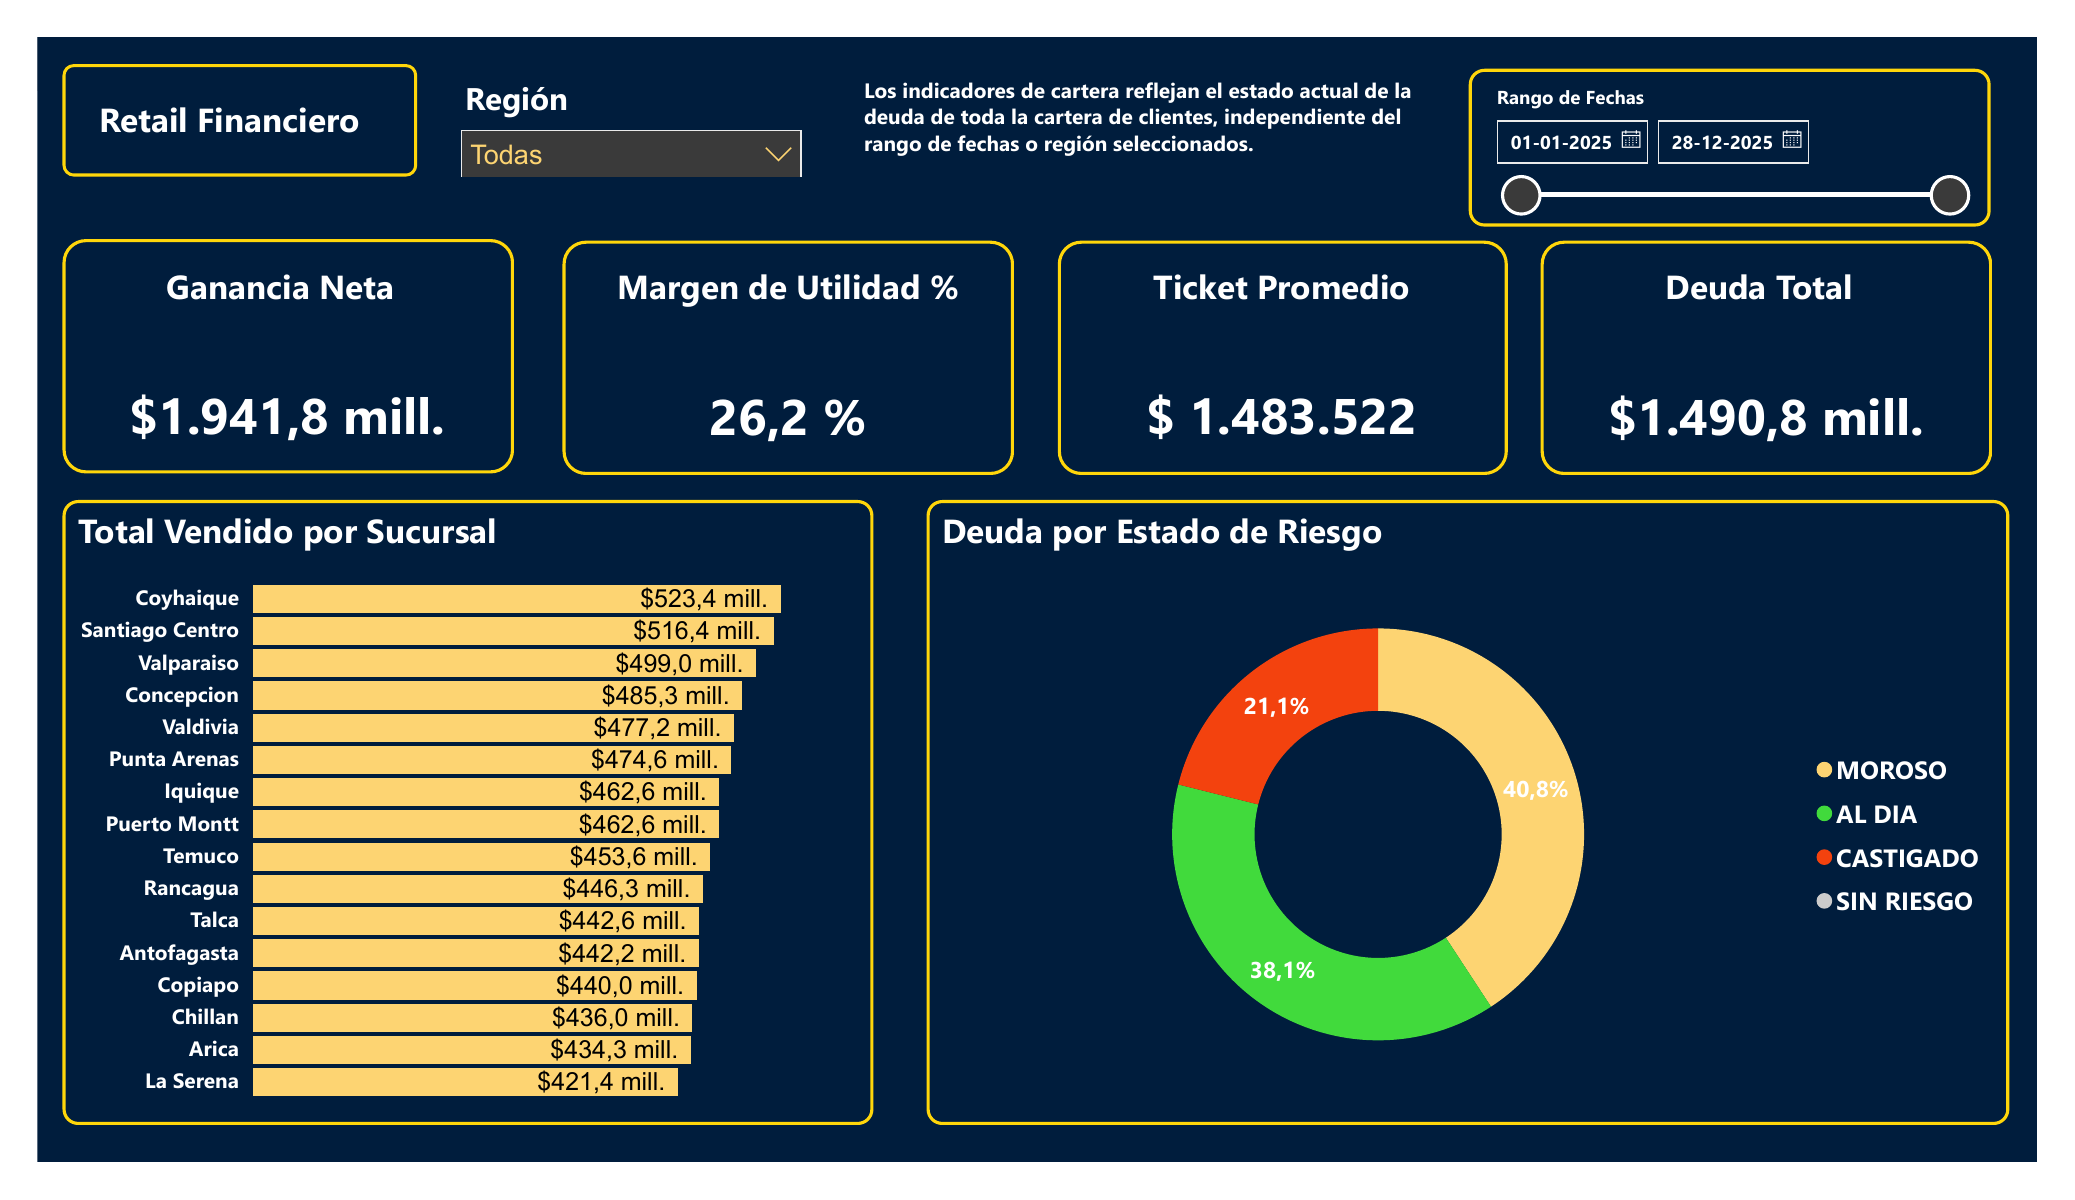

What the dashboard file says about the page in this screenshot:
{"tool":"powerbi","page":{"name":"Visión General","canvas":[1280,720],"ordinal":0},"visuals":[{"type":"shape","box":[961.6,129.6,289,149.8],"z":0,"group":"g4"},{"type":"clusteredBarChart","title":"Total Vendido por Sucursal","fields":{"Category":["retail_financiero locales.nombre_local"],"Y":["Sum(retail_financiero vw_transacciones_limpias.monto_total)"]},"box":[15.8,295.9,518.9,400],"z":0},{"type":"slicer","fields":{"Values":["retail_financiero locales.region"]},"box":[261.4,20.3,237.9,68.9],"z":1000},{"type":"cardVisual","fields":{"Data":["Sum(retail_financiero vw_clientes_credito_limpios.deuda_actual)"]},"box":[938.6,199.7,335.1,80],"z":1000,"group":"g4"},{"type":"shape","box":[15.7,17.2,227,72],"z":2000},{"type":"textbox","box":[28.2,32.9,189.4,43.8],"z":3000},{"type":"donutChart","title":"Deuda por Estado de Riesgo","fields":{"Category":["retail_financiero vw_clientes_credito_limpios.estado_riesgo"],"Y":["Sum(retail_financiero vw_clientes_credito_limpios.deuda_actual)"]},"box":[569,296,693,400],"z":4000},{"type":"shape","box":[652.6,129.6,288.1,149.8],"z":4500,"group":"g3"},{"type":"group","id":"g1","title":"Grupo 1","box":[13.8,128.9,290.6,150.5],"z":5000},{"type":"cardVisual","fields":{"Data":["_Medidas.ticket promedio"]},"box":[679,198.7,235.3,80.7],"z":5000,"group":"g3"},{"type":"shape","box":[15.5,128.9,288.9,150],"z":5500,"group":"g1"},{"type":"group","id":"g2","title":"Grupo 2","box":[336.5,130,288.9,150],"z":6000},{"type":"cardVisual","fields":{"Data":["_Medidas.utilidad total"]},"box":[28.9,199.7,262.1,79.7],"z":6000,"group":"g1"},{"type":"group","id":"g3","title":"Grupo 3","box":[652.6,129.6,288.1,149.8],"z":7000},{"type":"group","id":"g4","title":"Grupo 4","box":[938.6,129.6,335.1,150.1],"z":8000},{"type":"slicer","fields":{"Values":["Calendario.Date"]},"box":[915.8,20.2,334.5,101],"z":9000},{"type":"cardVisual","fields":{"Data":["_Medidas.margen utilidad %"]},"box":[399.3,200,163.3,80],"z":9000,"group":"g2"},{"type":"shape","box":[336.5,130,288.9,150],"z":9500,"group":"g2"},{"type":"textbox","box":[524.2,20.2,367.9,101],"z":10000},{"type":"textbox","box":[667.5,140,263.3,52.2],"z":13000,"group":"g3"},{"type":"textbox","box":[365.4,140,231.1,52.2],"z":14000,"group":"g2"},{"type":"textbox","box":[978,140,253.3,52.2],"z":15000,"group":"g4"},{"type":"textbox","box":[13.8,140.1,288.9,52.2],"z":16000,"group":"g1"}]}

Visuals, with their boxes on the page's 1280x720 design canvas (x1, y1, x2, y2). These are canvas units, not pixel positions in the 2075x1200 screenshot, which may show the page scaled, cropped or inside an application window:
shape: x1=962 y1=130 x2=1251 y2=279
"Total Vendido por Sucursal" clusteredBarChart: x1=16 y1=296 x2=535 y2=696
slicer - retail_financiero locales.region: x1=261 y1=20 x2=499 y2=89
cardVisual - Sum(retail_financiero vw_clientes_credito_limpios.deuda_actual): x1=939 y1=200 x2=1274 y2=280
shape: x1=16 y1=17 x2=243 y2=89
textbox: x1=28 y1=33 x2=218 y2=77
"Deuda por Estado de Riesgo" donutChart: x1=569 y1=296 x2=1262 y2=696
shape: x1=653 y1=130 x2=941 y2=279
"Grupo 1" group: x1=14 y1=129 x2=304 y2=279
cardVisual - _Medidas.ticket promedio: x1=679 y1=199 x2=914 y2=279
shape: x1=16 y1=129 x2=304 y2=279
"Grupo 2" group: x1=336 y1=130 x2=625 y2=280
cardVisual - _Medidas.utilidad total: x1=29 y1=200 x2=291 y2=279
"Grupo 3" group: x1=653 y1=130 x2=941 y2=279
"Grupo 4" group: x1=939 y1=130 x2=1274 y2=280
slicer - Calendario.Date: x1=916 y1=20 x2=1250 y2=121
cardVisual - _Medidas.margen utilidad %: x1=399 y1=200 x2=563 y2=280
shape: x1=336 y1=130 x2=625 y2=280
textbox: x1=524 y1=20 x2=892 y2=121
textbox: x1=668 y1=140 x2=931 y2=192
textbox: x1=365 y1=140 x2=596 y2=192
textbox: x1=978 y1=140 x2=1231 y2=192
textbox: x1=14 y1=140 x2=303 y2=192
